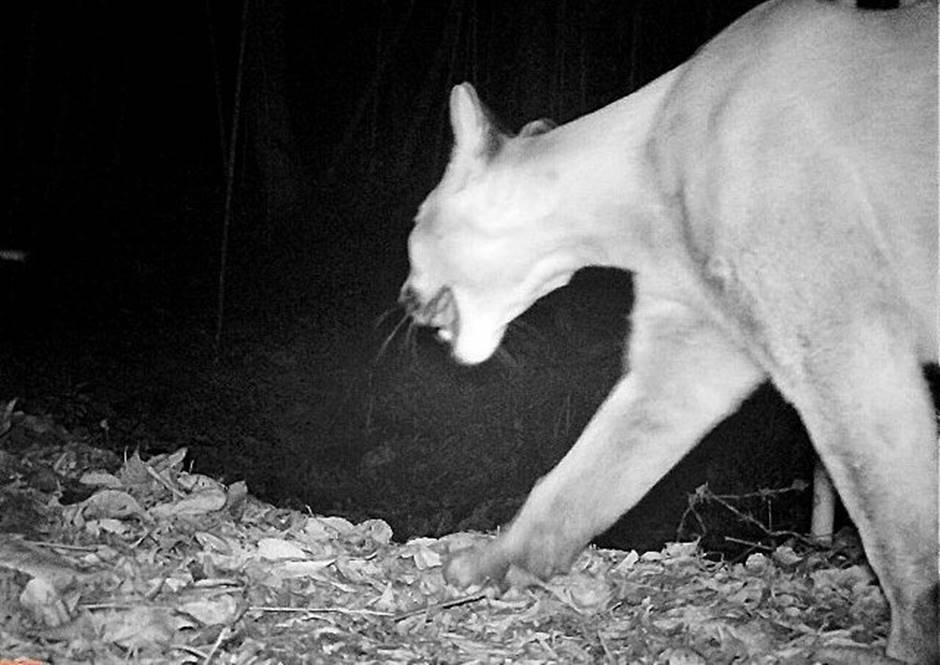OncaParda: (388, 22, 933, 654)
